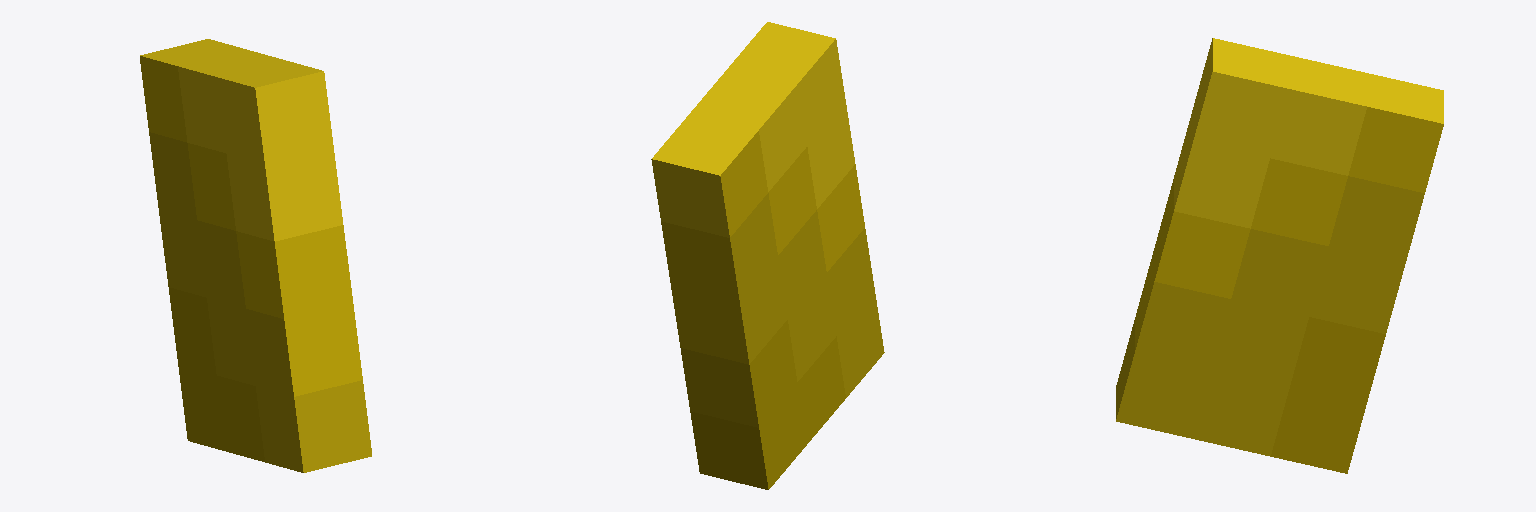
The picture shows the model from 3 angles: view 1: azimuth 30°, elevation 25°; view 2: azimuth 150°, elevation 25°; view 3: azimuth 270°, elevation 25°; orthographic projection.
Parts seen in each view (by area): view 1: alaizquierda_material_0; view 2: alaizquierda_material_0; view 3: alaizquierda_material_0.
Part boxes in pixels (bbox=[...]): alaizquierda_material_0: bbox=[140, 39, 371, 472]; alaizquierda_material_0: bbox=[651, 22, 884, 489]; alaizquierda_material_0: bbox=[1116, 38, 1443, 473].
Bounding box in the file's own units: 0.0625 × 0.3487 × 0.2578.
1 materials, 1 textured.